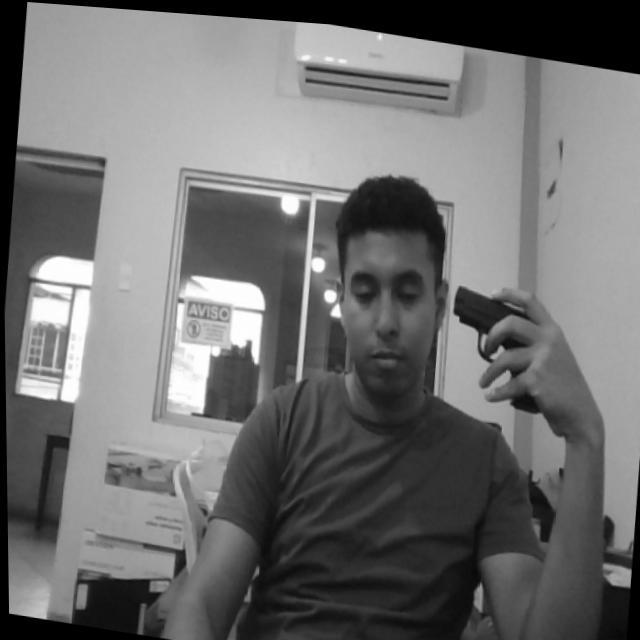weapon: (442, 274, 550, 408)
